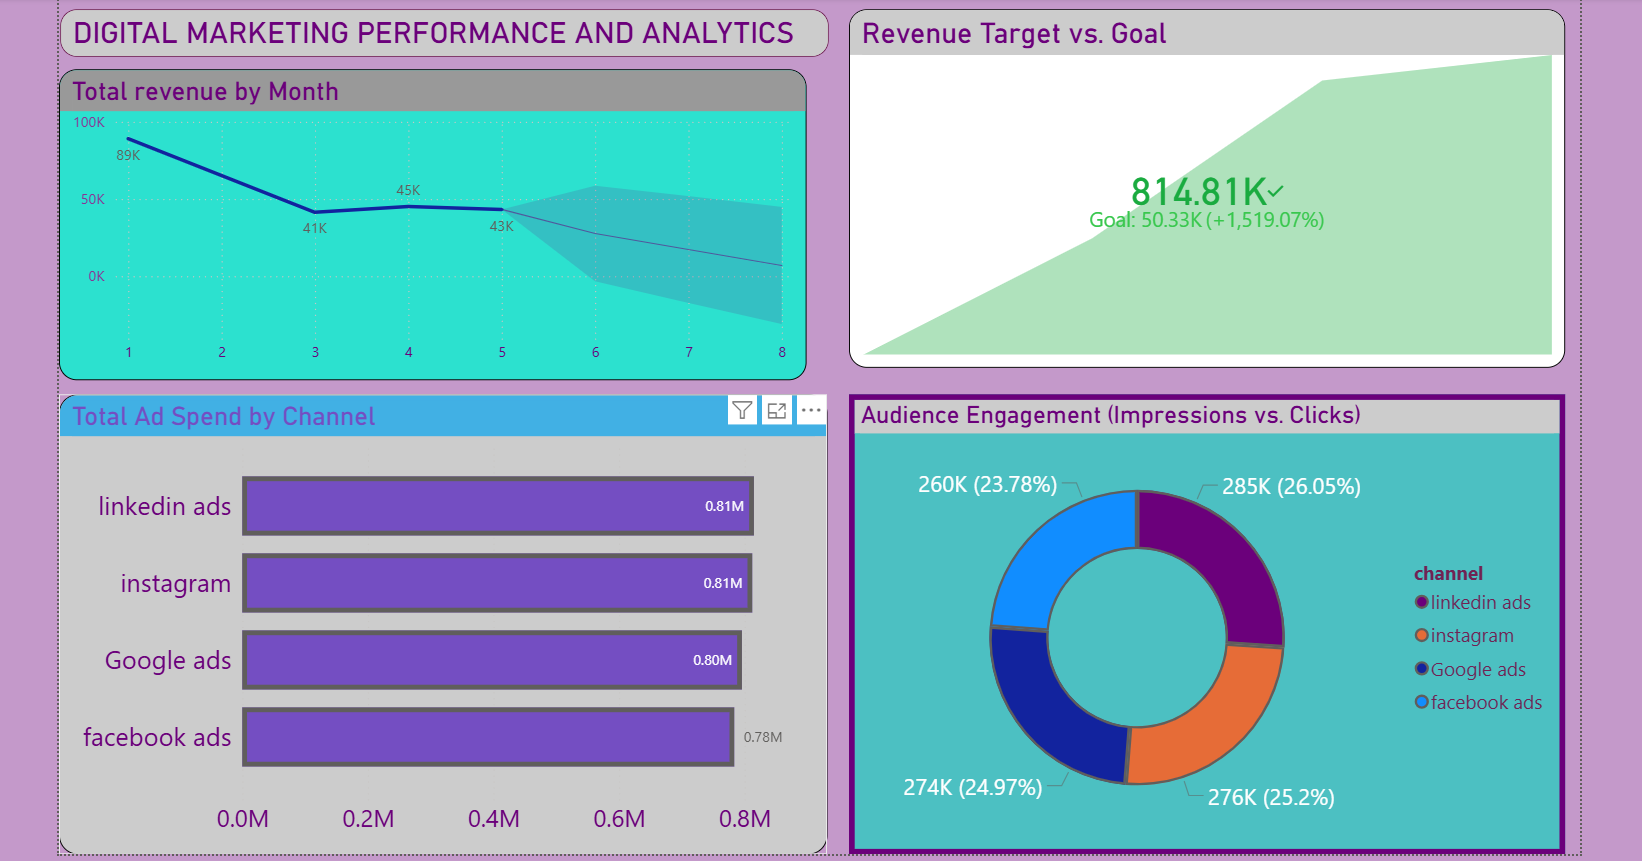

The dashboard page shown, as its layout file describes it:
{"tool":"powerbi","page":{"name":"Page 1","canvas":[1280,720],"ordinal":0},"visuals":[{"type":"barChart","title":"Total Ad Spend by Channel","fields":{"Category":["cleaned_marketing_data.channel"],"Y":["Sum(cleaned_marketing_data.row_spend)"]},"box":[0,333.4,646.3,387],"z":0},{"type":"donutChart","title":"Audience Engagement (Impressions vs. Clicks)","fields":{"Category":["cleaned_marketing_data.channel"],"Y":["Sum(cleaned_marketing_data.impressions)"]},"box":[664.2,333.4,602.4,387],"z":1},{"type":"kpi","title":"Revenue Target vs. Goal","fields":{"TrendLine":["cleaned_marketing_data.channel"],"Indicator":["Sum(cleaned_marketing_data.row_spend)"],"Goal":["Sum(cleaned_marketing_data.revenue)"]},"box":[664.2,9.6,602.4,301.9],"z":2},{"type":"textbox","title":"DIGITAL MARKETING PERFORMANCE AND ANALYTICS","box":[1.4,9.6,646.3,39.8],"z":3},{"type":"lineChart","title":"Total revenue by Month","fields":{"Y":["cleaned_marketing_data.total revenue"],"Category":["cleaned_marketing_data.date.Variation.Date Hierarchy.Day"]},"box":[0,59.9,628.7,261.8],"z":4}]}

Visuals, with their boxes in screenshot pixels (x1, y1, x2, y2):
"Total Ad Spend by Channel" barChart: crop(64, 392, 825, 848)
"Audience Engagement (Impressions vs. Clicks)" donutChart: crop(846, 392, 1555, 848)
"Revenue Target vs. Goal" kpi: crop(846, 11, 1555, 367)
"DIGITAL MARKETING PERFORMANCE AND ANALYTICS" textbox: crop(66, 11, 827, 58)
"Total revenue by Month" lineChart: crop(64, 71, 804, 379)
